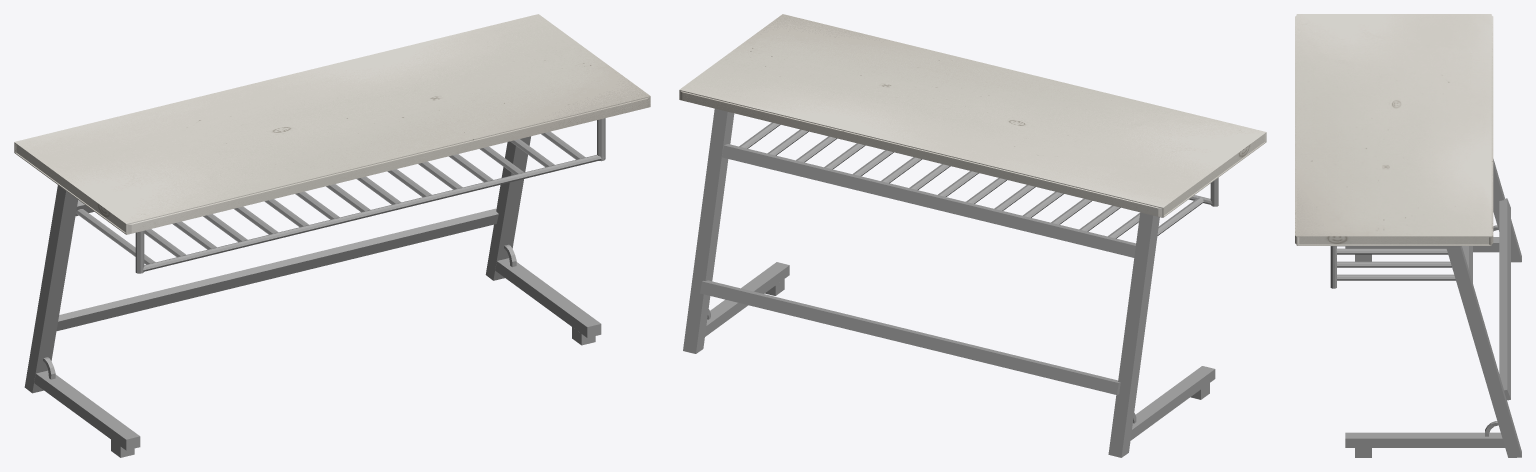
File: banco.fbx
3 views of the same model, side by side, from view 1: azimuth 30°, elevation 25°; view 2: azimuth 150°, elevation 25°; view 3: azimuth 270°, elevation 25° (orthographic). The views are drawn at different scales.
Parts seen in each view (by area): view 1: Cube.008, Cube.007, Cylinder, Cube.004, Cylinder.001, Cube.001, Cube.005, Cube; view 2: Cube.008, Cube.007, Cube.006, Cube.004, Cube.001, Cylinder, Cube.005, Cube; view 3: Cube.008, Cube.001, Cube, Cylinder, Cube.007, Cube.004, Cube.005, Cube.011.
Boxes of the visible parts, x1,y1,x2,y2 form: Cube.008: (14,14,650,234); Cube.007: (56,208,498,330); Cylinder: (76,131,585,264); Cube.004: (24,185,77,393); Cylinder.001: (142,155,603,271); Cube.001: (485,136,530,280); Cube.005: (34,370,140,450); Cube: (495,258,601,337); Cube.008: (679,14,1266,217); Cube.007: (700,280,1120,394); Cube.006: (722,144,1135,257); Cube.004: (1108,212,1159,457); Cube.001: (683,108,734,353); Cylinder: (739,122,1203,238); Cube.005: (1130,366,1215,440); Cube: (705,262,789,336); Cube.008: (1295,14,1493,245); Cube.001: (1331,246,1521,457); Cube: (1345,432,1504,447); Cylinder: (1336,248,1455,280); Cube.007: (1499,198,1510,400); Cube.004: (1493,159,1521,262); Cube.005: (1345,237,1499,252); Cube.011: (1330,246,1336,288).
Bounding box in the file's own units: 193 × 93.09 × 83.04.
Materials: 2 (1 with a texture image).
